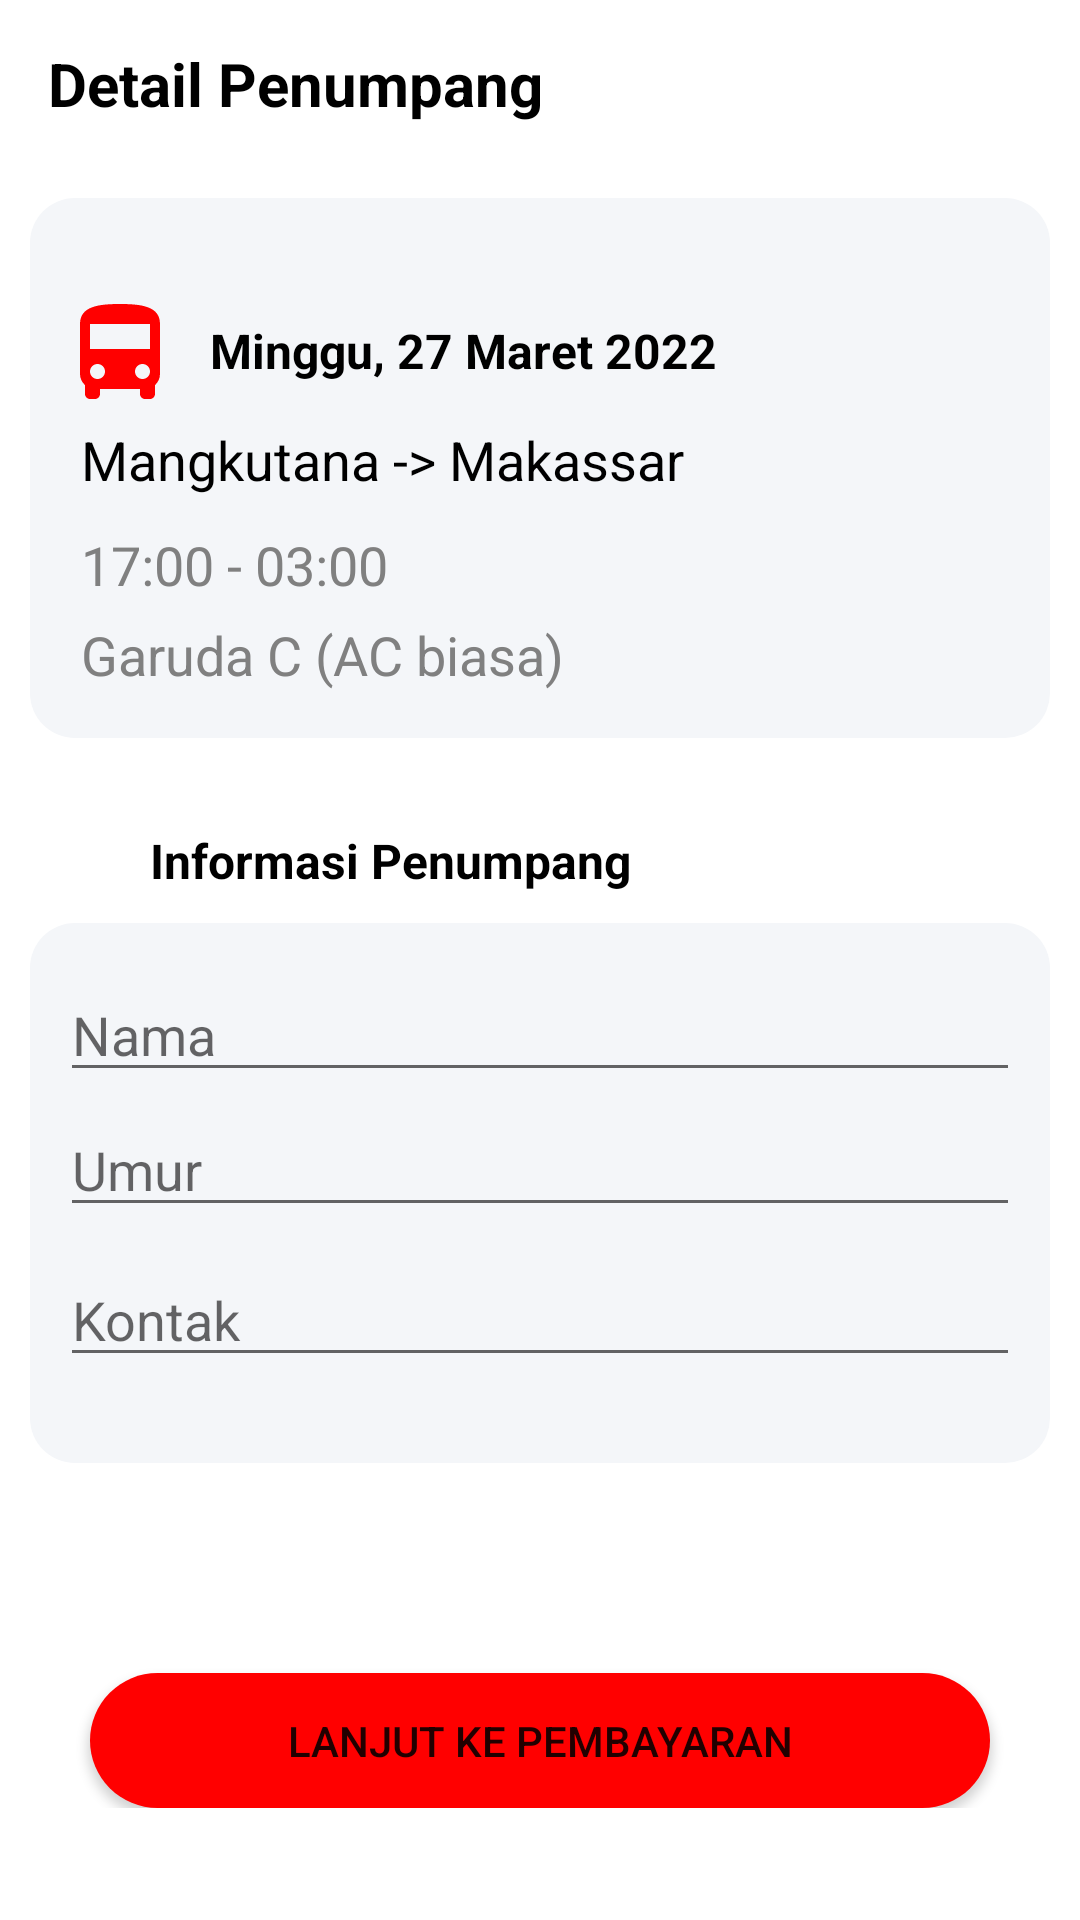

Named icons in this screenshot (1080 x 1920) and their centers, (x=x, y=y):
buss: (x=120, y=351)
